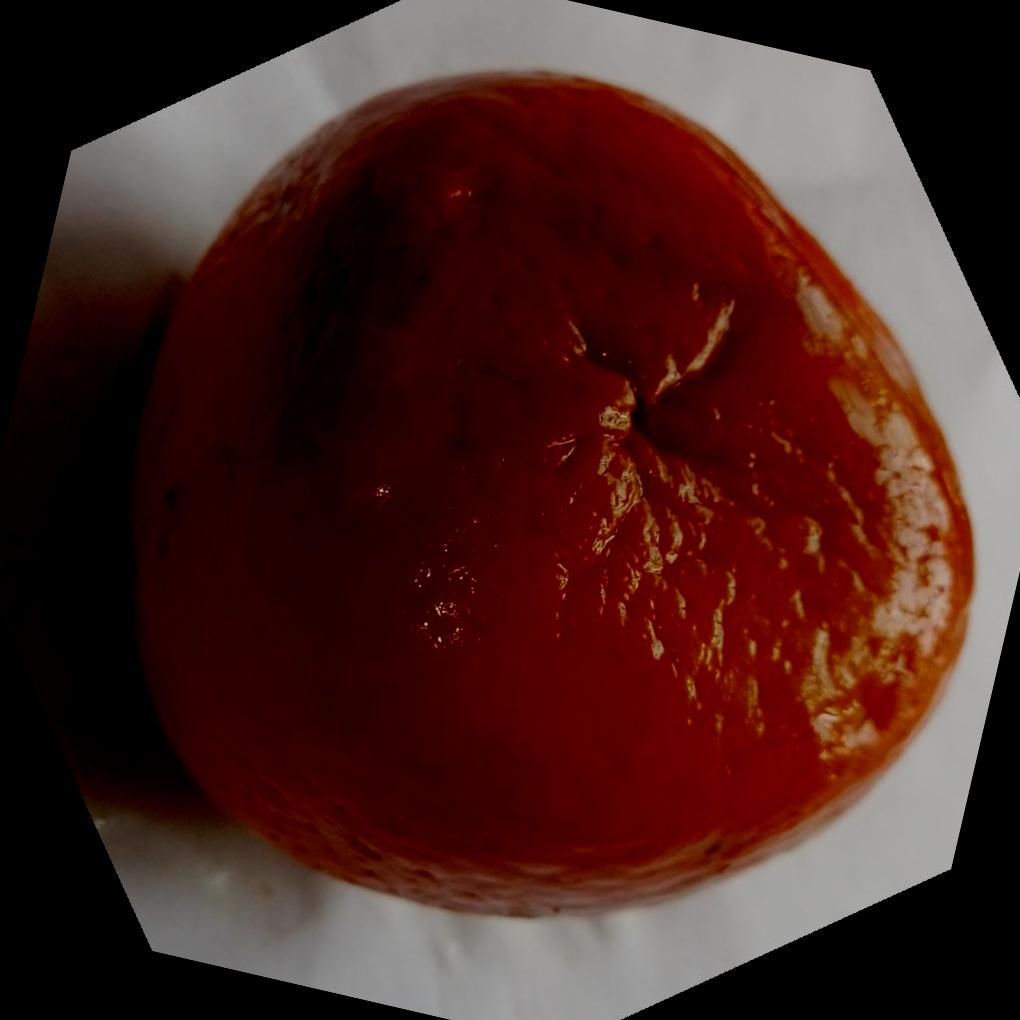FreshOrange: (114, 66, 974, 920)
